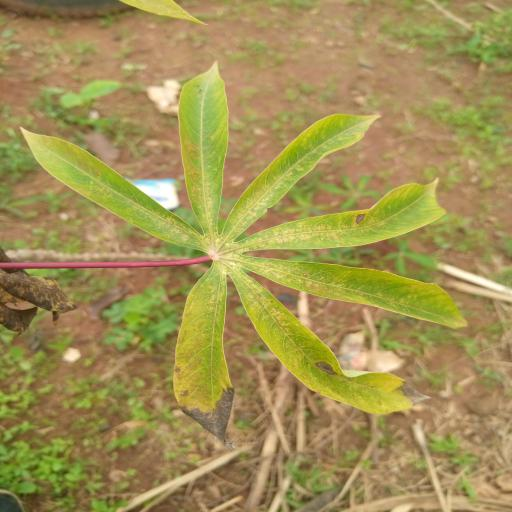Cassava_Mosaic: (14, 59, 464, 442)
